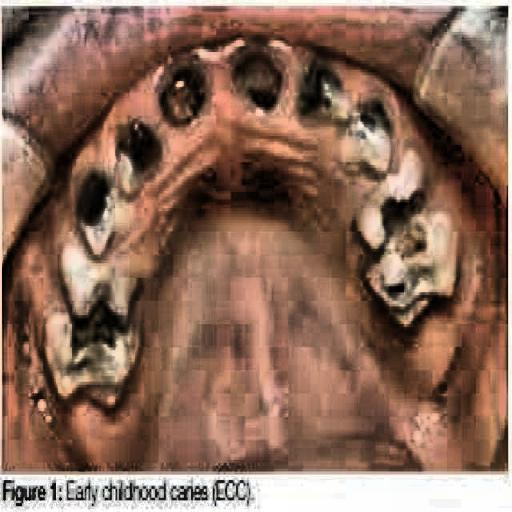Caries: (354, 180, 469, 310), (69, 96, 174, 236), (310, 56, 414, 178), (179, 39, 298, 131), (50, 274, 122, 381)
